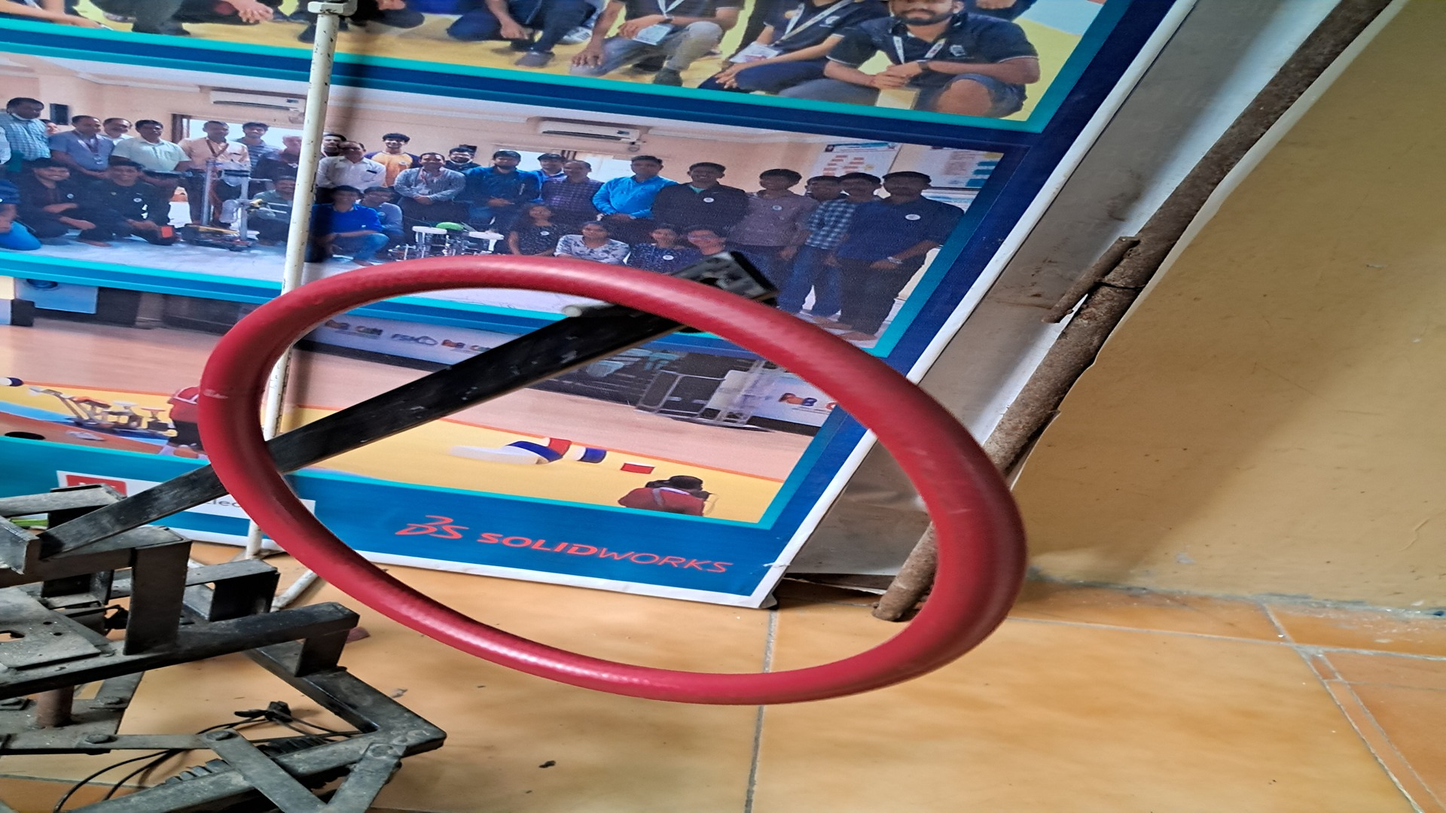Red ring: (194, 260, 1014, 706)
